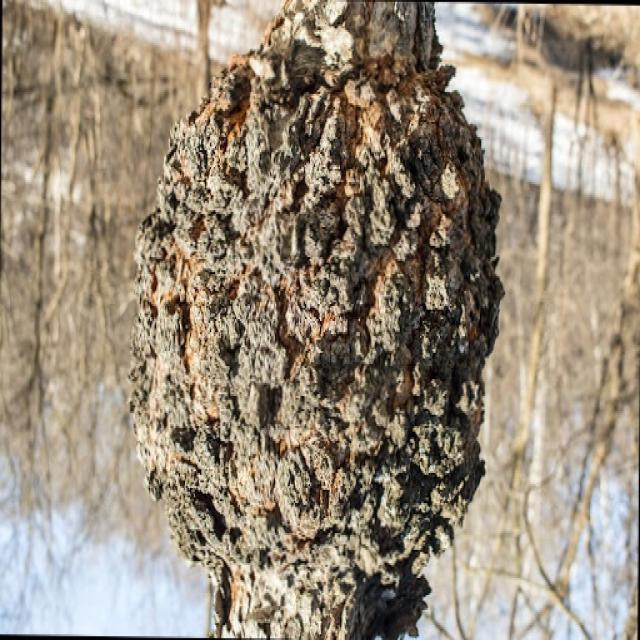Black_knot: (125, 0, 506, 638)
